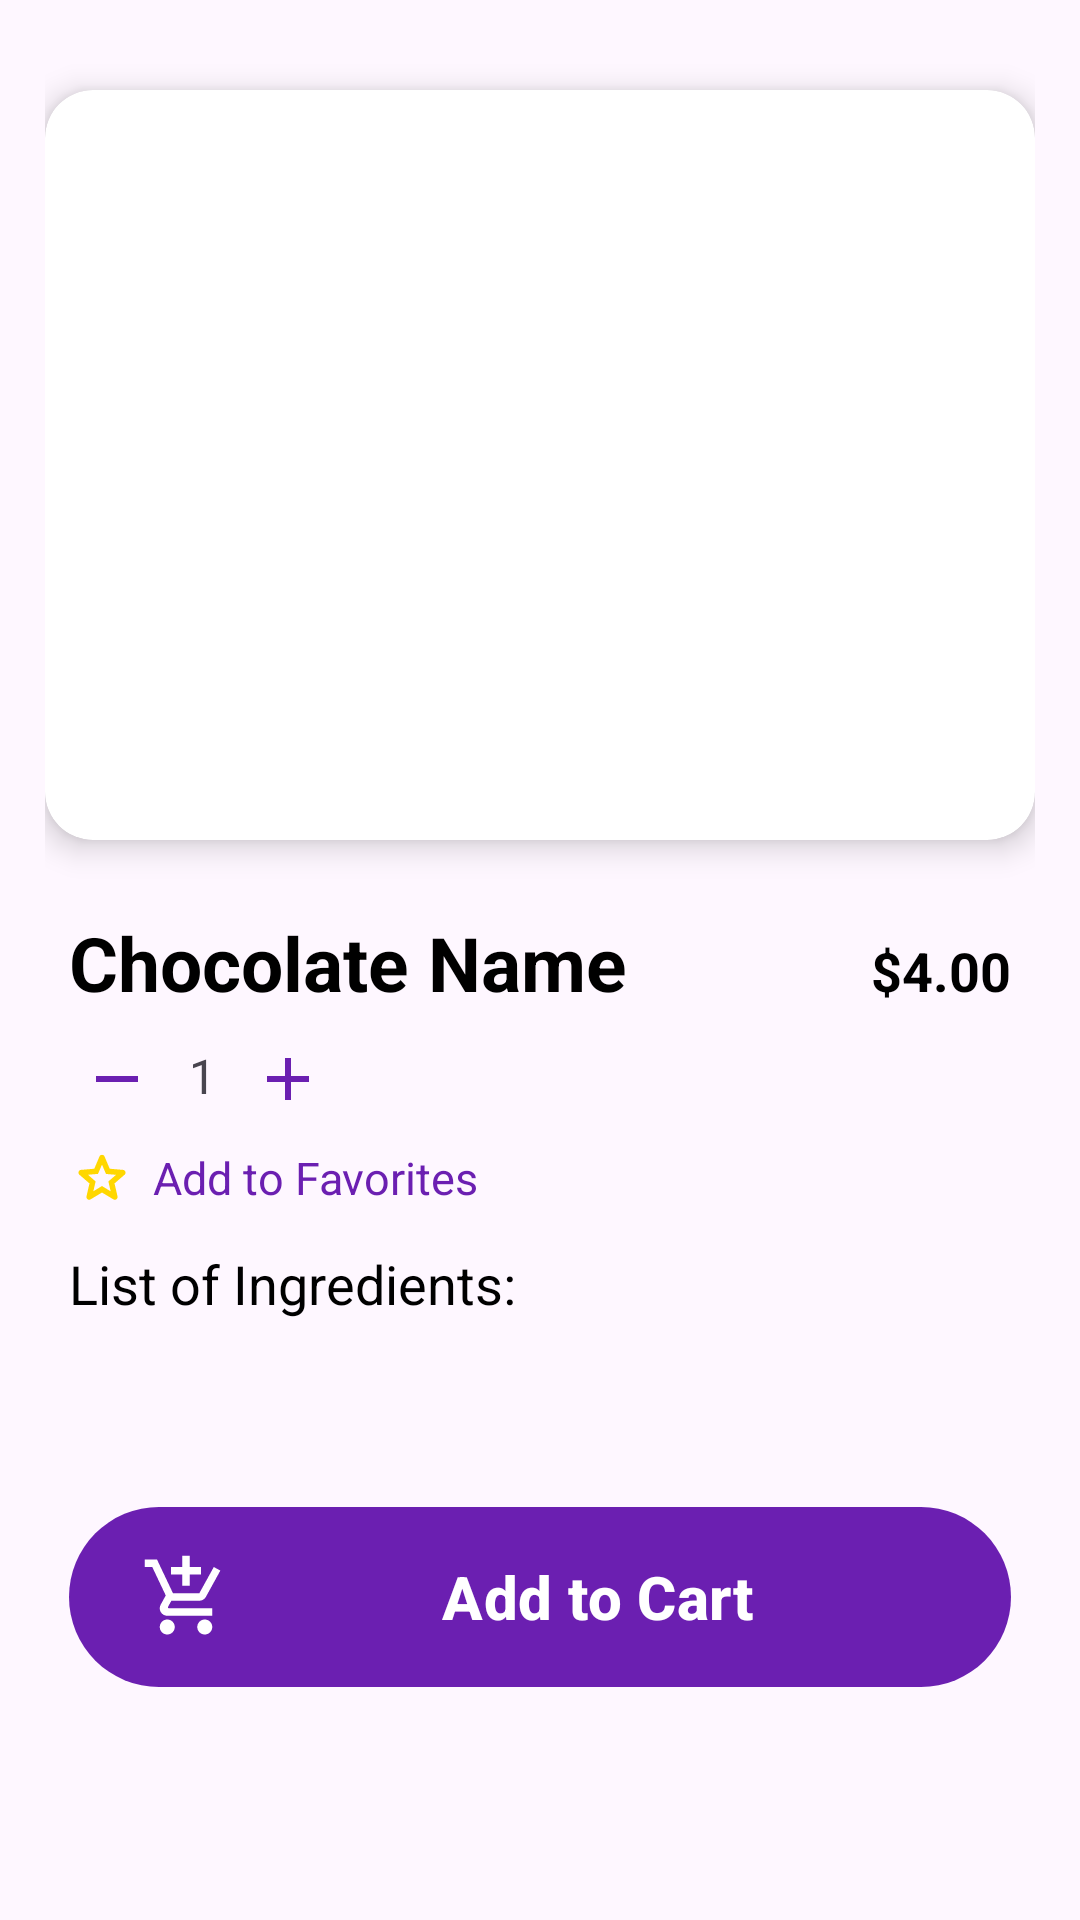

Locate icon controls on the screen. Image size 1080×1920, boxes as (x1, y1, x2, y2).
plus: (267, 1058, 309, 1100)
star border: (78, 1155, 126, 1200)
